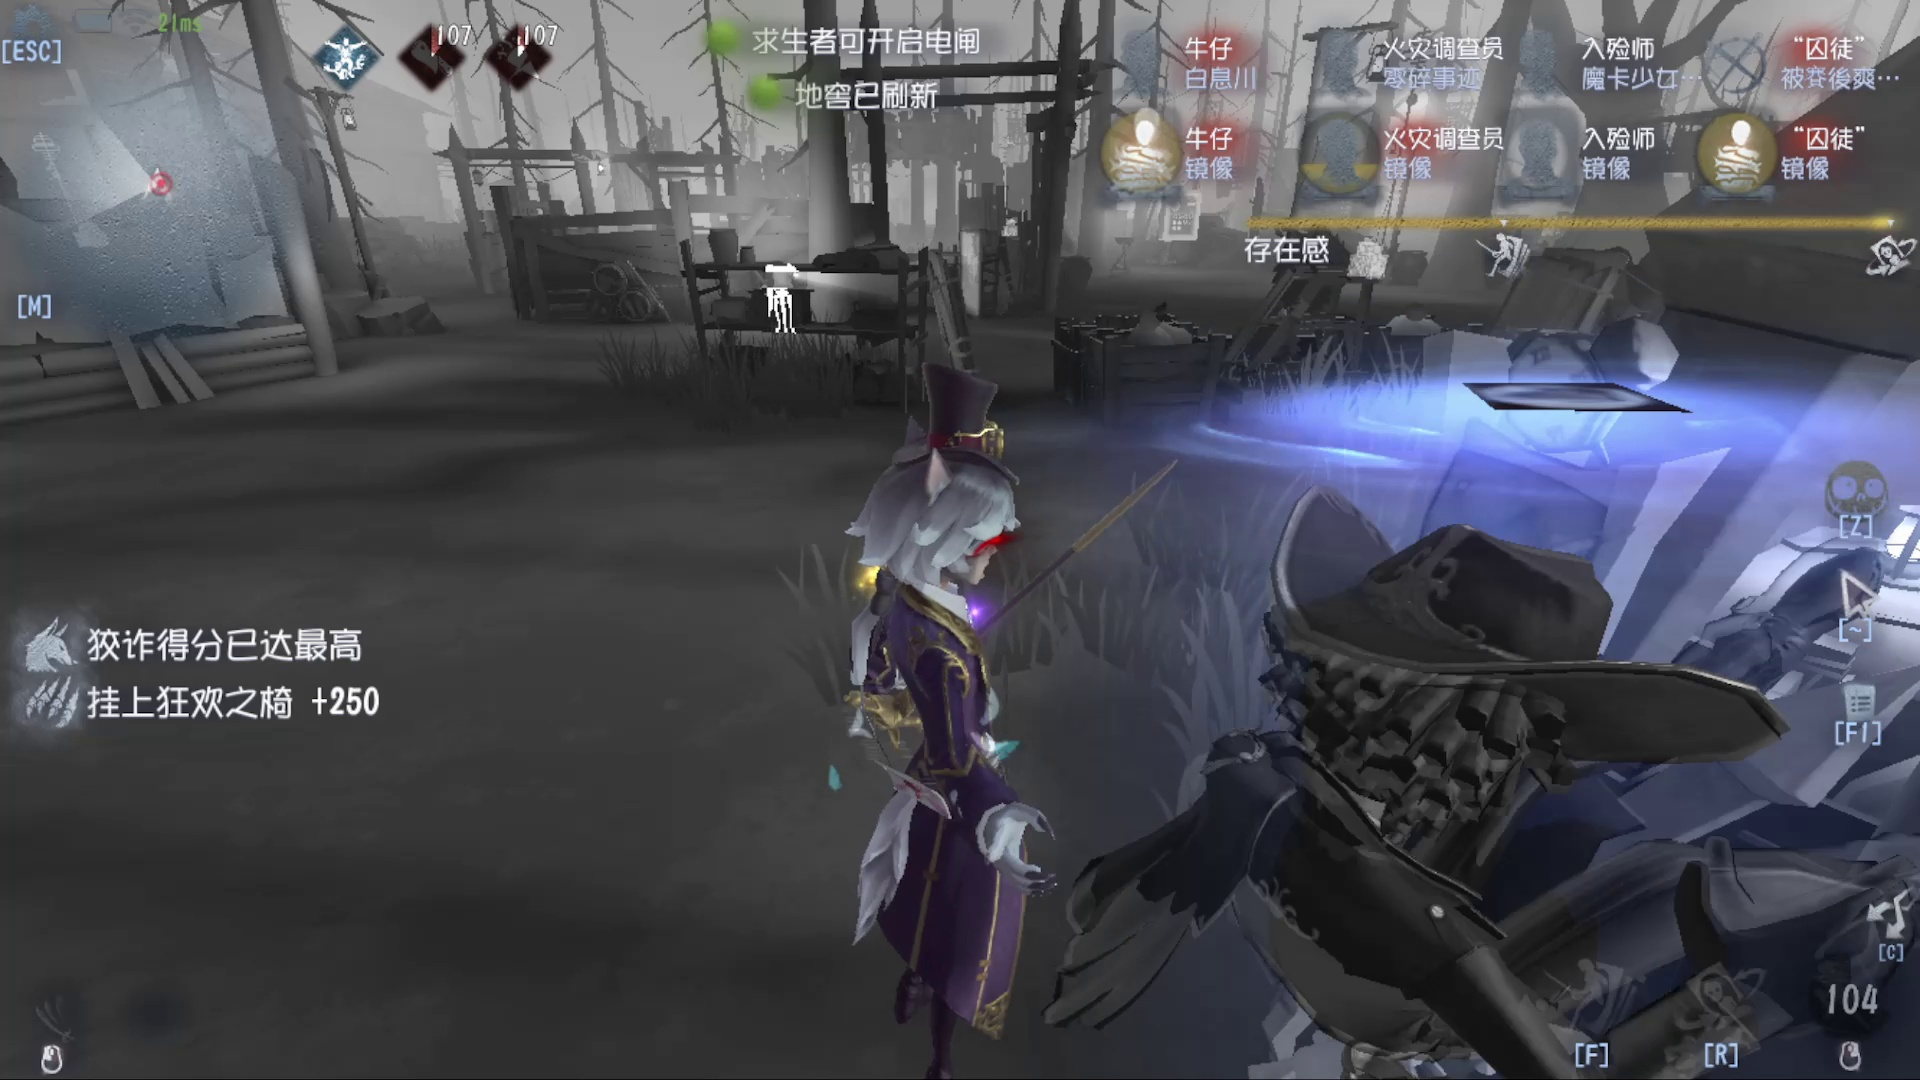木板: (899, 243, 1026, 434)
